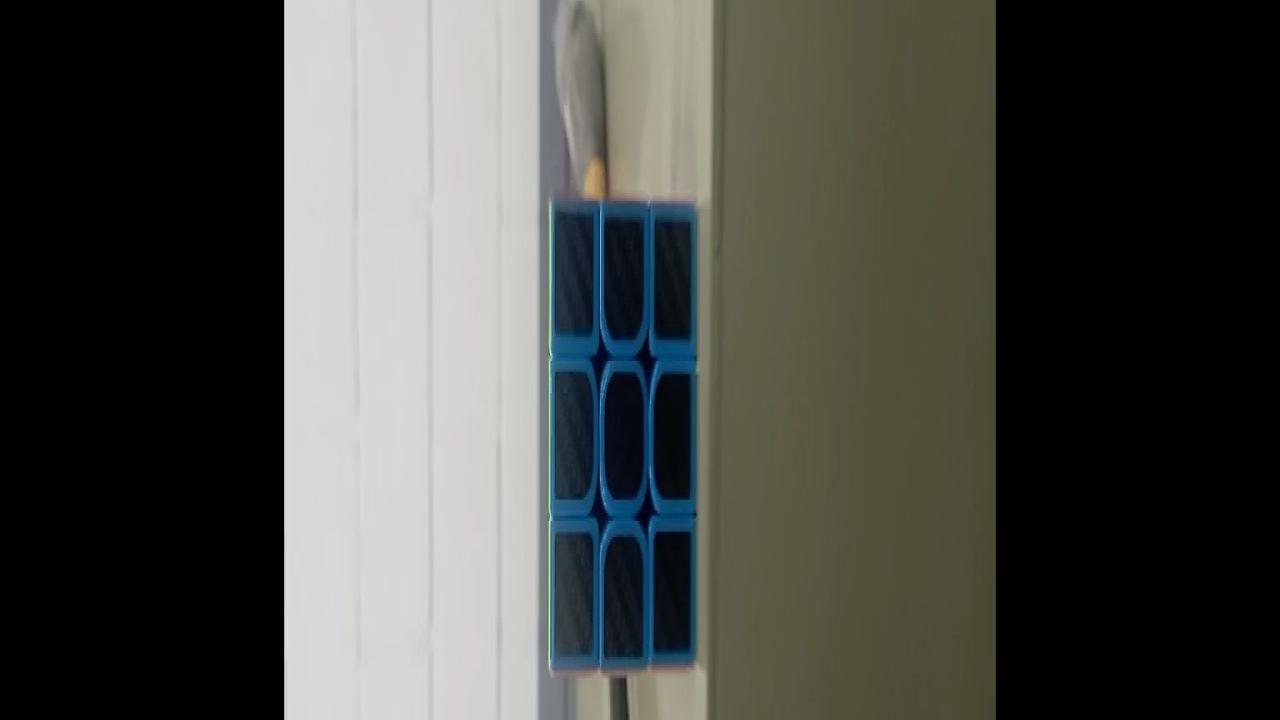Cube: (546, 189, 698, 680)
